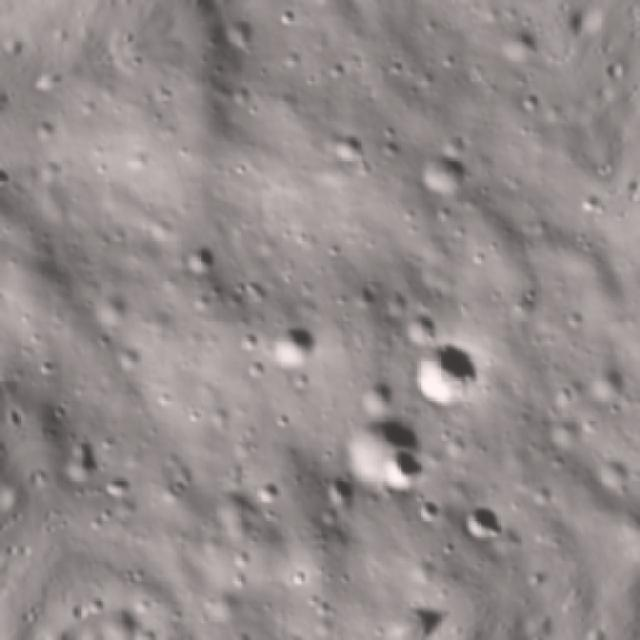crater: (329, 395, 445, 507), (396, 325, 495, 420), (406, 134, 480, 211), (255, 311, 328, 380), (375, 441, 440, 501), (452, 492, 512, 552), (49, 426, 106, 486), (385, 298, 446, 350), (169, 228, 223, 283), (317, 118, 368, 176), (318, 461, 359, 508), (245, 472, 286, 512), (0, 157, 28, 206), (413, 490, 447, 521)
